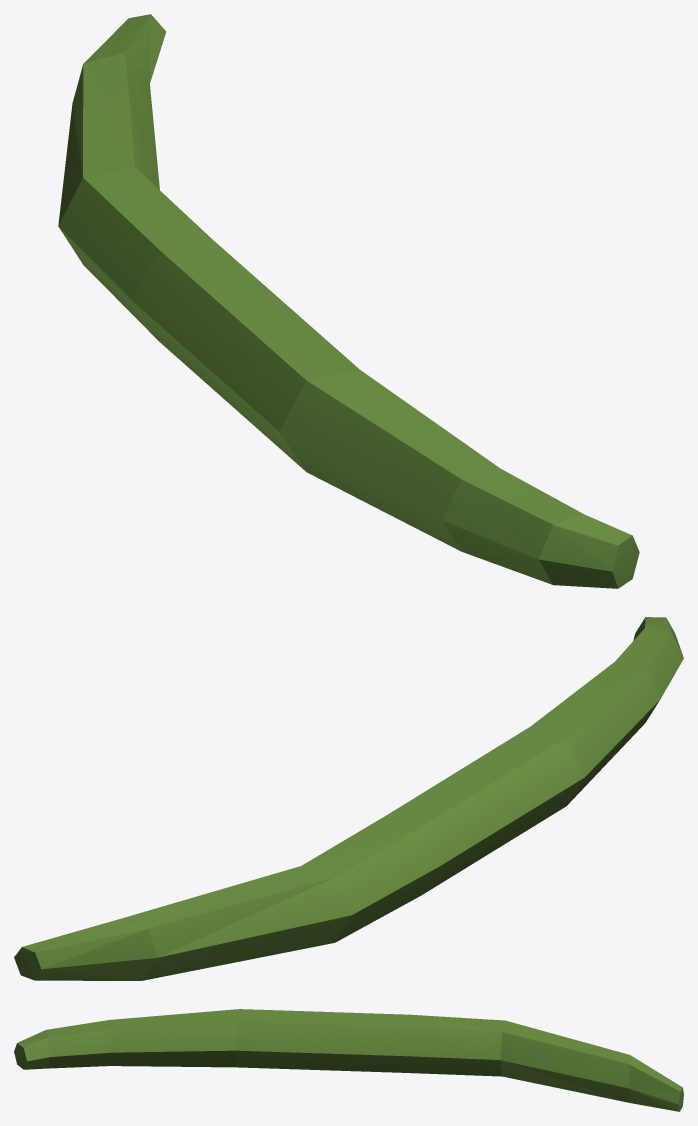
Rendered from Crop_Bean_01.obj.
The picture shows the model from 3 angles, top to bottom: view 1: azimuth 30°, elevation 25°; view 2: azimuth 150°, elevation 25°; view 3: azimuth 270°, elevation 25°; orthographic projection. The views are drawn at different scales.
Visible parts, largest first — view 1: Crop_Bean_01; view 2: Crop_Bean_01; view 3: Crop_Bean_01.
Part boxes in pixels (box(x1,y1,x2,y2)): Crop_Bean_01: box(58, 14, 639, 588); Crop_Bean_01: box(14, 617, 683, 980); Crop_Bean_01: box(14, 1009, 683, 1111).
Bounding box in the file's own units: 0.0528 × 0.0143 × 0.1889.
1 material, 1 textured.
